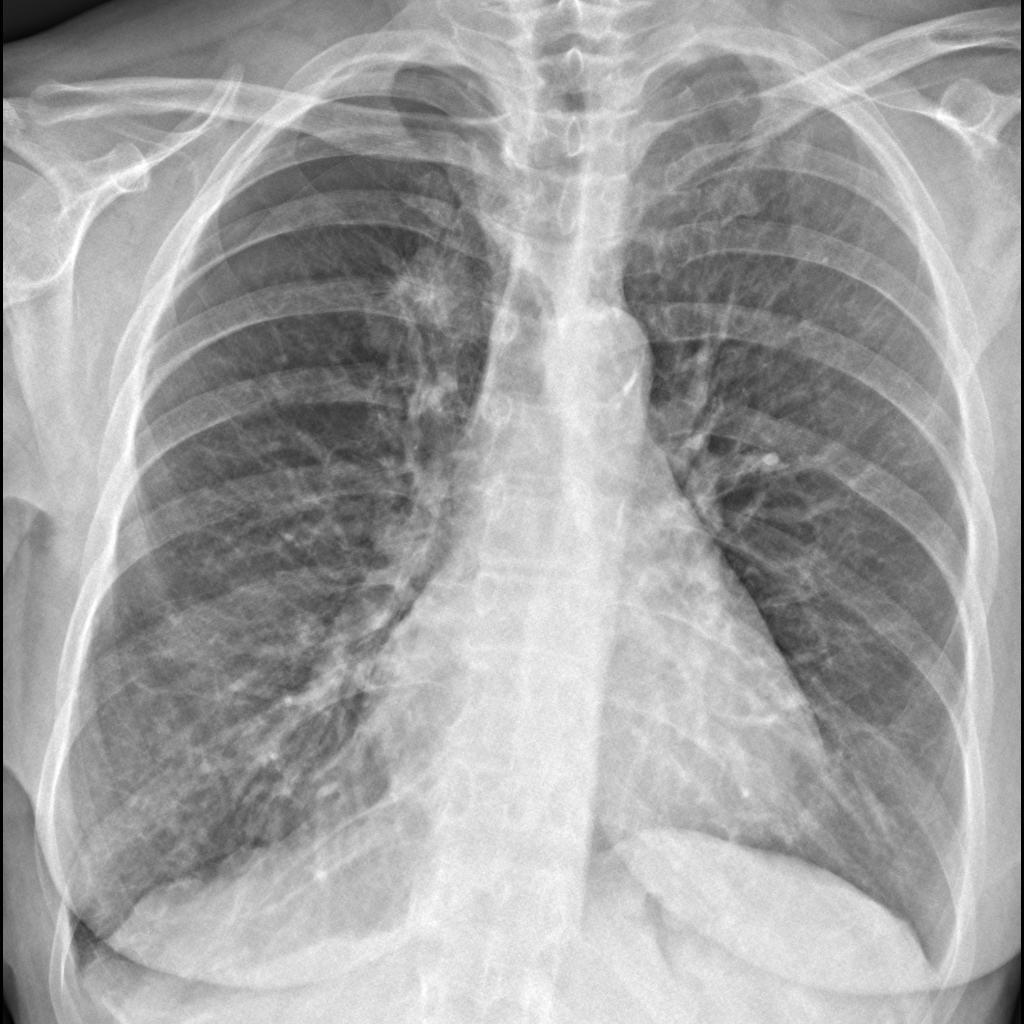Nodule: (364, 229, 480, 383)
